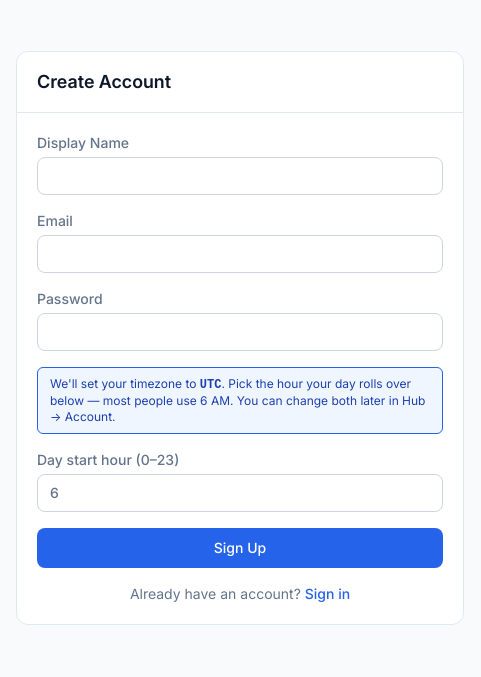
Test: Signup › shows error when signUp returns an AuthApiError (e.g. email already exists)
Type "Alice" into the field labelled "Display Name". click: (240, 176)
box: [37, 157, 443, 195]
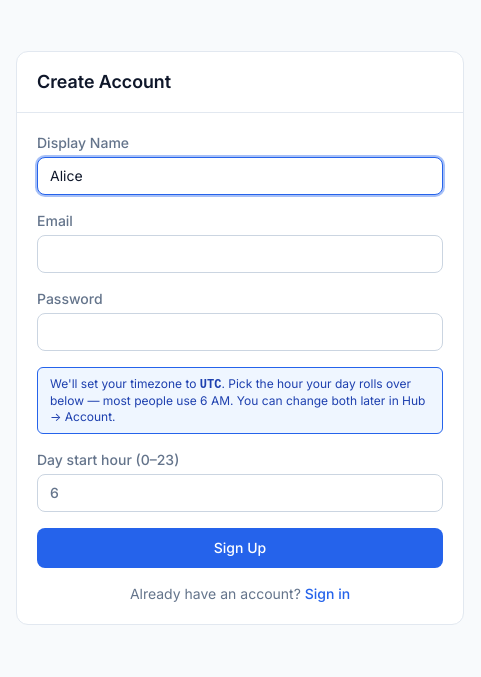
Type "existing@example.com" into the field labelled "Email". click: (240, 254)
box: [37, 235, 443, 273]
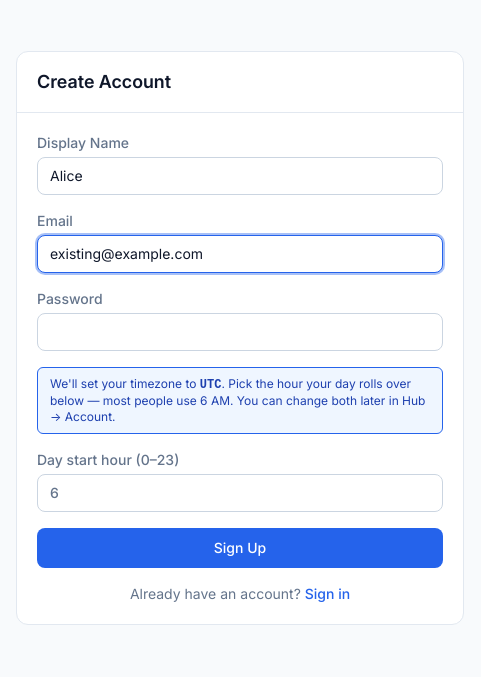
Type "password99" into the password field labelled "Password". click: (240, 332)
box: [37, 313, 443, 351]
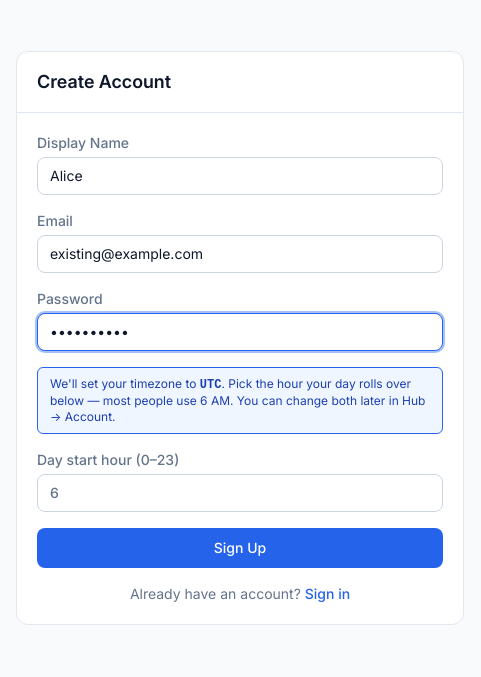
Click the button "Sign Up". click: (240, 548)
box: [37, 528, 443, 568]
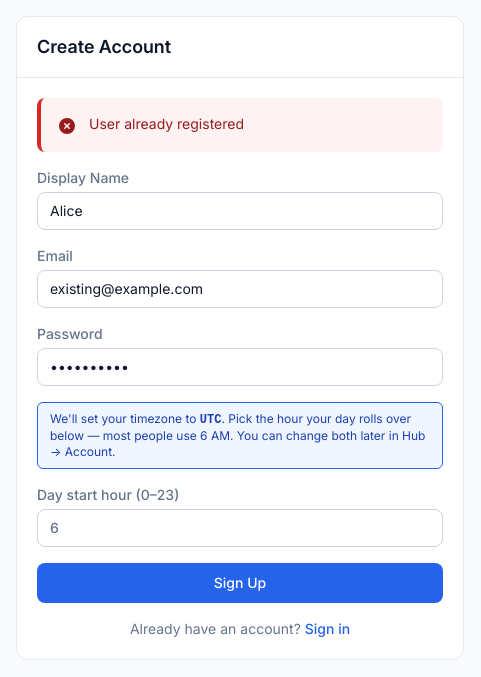
Now the text "User already registered" is shown, box [89, 115, 244, 132]
